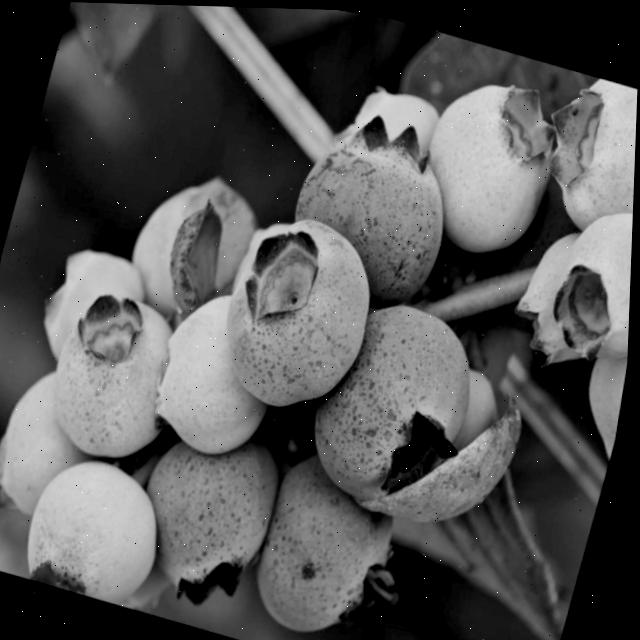RipeBlueBerry: (295, 279, 502, 526), (273, 92, 476, 308), (239, 436, 427, 640), (31, 274, 198, 475)
Semi-RipeBlueBerry: (201, 194, 401, 431), (122, 411, 299, 620)
UnripeBlueBerry: (402, 56, 579, 270), (143, 278, 308, 472), (14, 441, 186, 613), (529, 63, 639, 239), (537, 187, 635, 370), (568, 319, 631, 464)
